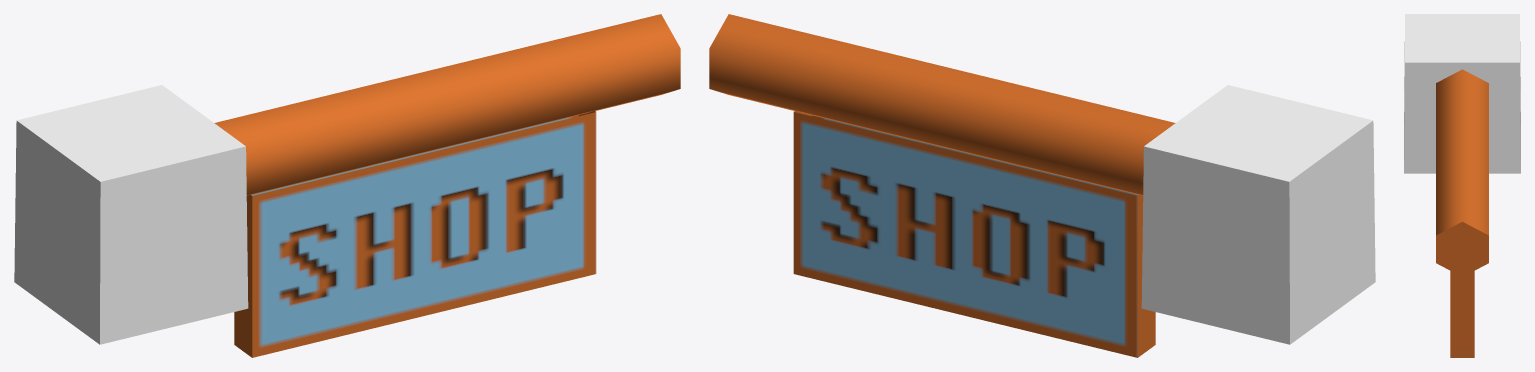
The model's file is Part_Name_Shop.FBX.
3 renders of one model, left to right at view 1: azimuth 30°, elevation 25°; view 2: azimuth 150°, elevation 25°; view 3: azimuth 270°, elevation 25°, orthographic. The views are drawn at different scales.
Parts seen in each view (by area): view 1: Part_Name_Shop; view 2: Part_Name_Shop; view 3: Part_Name_Shop.
Boxes of the visible parts, bbox=[...] form: Part_Name_Shop: bbox=[14, 14, 680, 357]; Part_Name_Shop: bbox=[709, 14, 1375, 357]; Part_Name_Shop: bbox=[1404, 14, 1520, 357].
Size of the model in its own units: 390 by 151 by 95.71.
